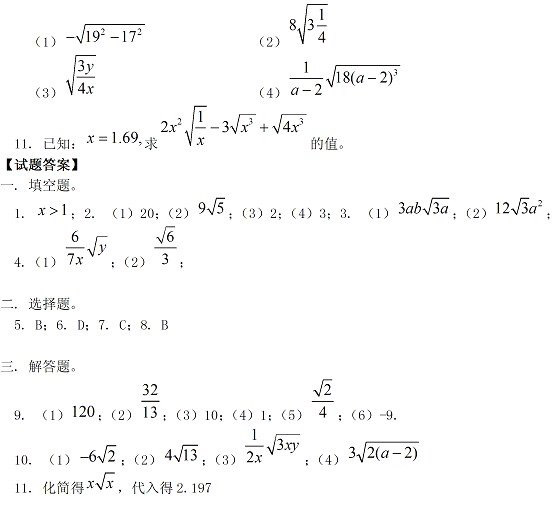cube: (298, 114, 309, 124), (393, 67, 399, 76), (248, 117, 253, 126)
division: (66, 73, 101, 82), (64, 242, 86, 253), (310, 395, 332, 405), (140, 396, 163, 405), (314, 20, 331, 30), (244, 443, 263, 450)
sqrt: (325, 60, 407, 91), (76, 20, 146, 46), (358, 438, 417, 468), (298, 2, 331, 49), (67, 52, 100, 97), (183, 103, 210, 149), (273, 110, 309, 138), (265, 432, 303, 455), (424, 194, 456, 221), (226, 111, 255, 138), (155, 222, 180, 245), (87, 234, 109, 259), (510, 194, 530, 221), (98, 442, 118, 468), (313, 377, 335, 400), (207, 192, 227, 217), (172, 444, 198, 462), (99, 470, 118, 493)
square: (134, 25, 147, 36), (537, 197, 544, 209), (176, 115, 181, 129), (99, 28, 106, 35)
